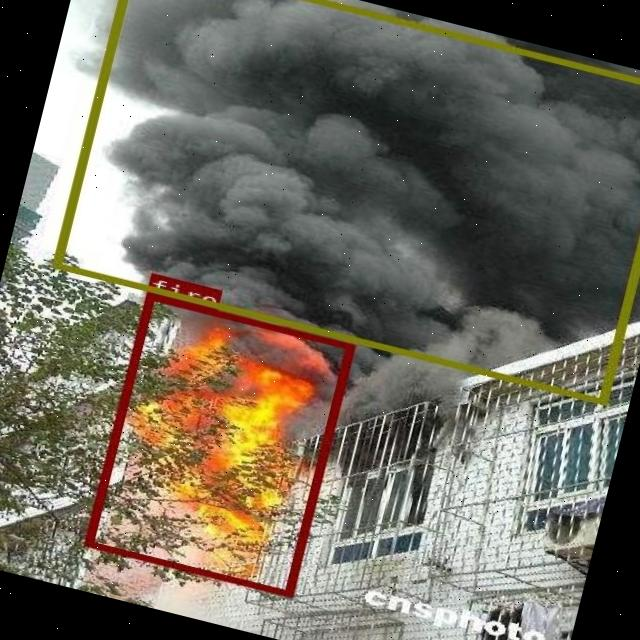fire: (82, 292, 352, 595)
smoke: (51, 0, 640, 403)
